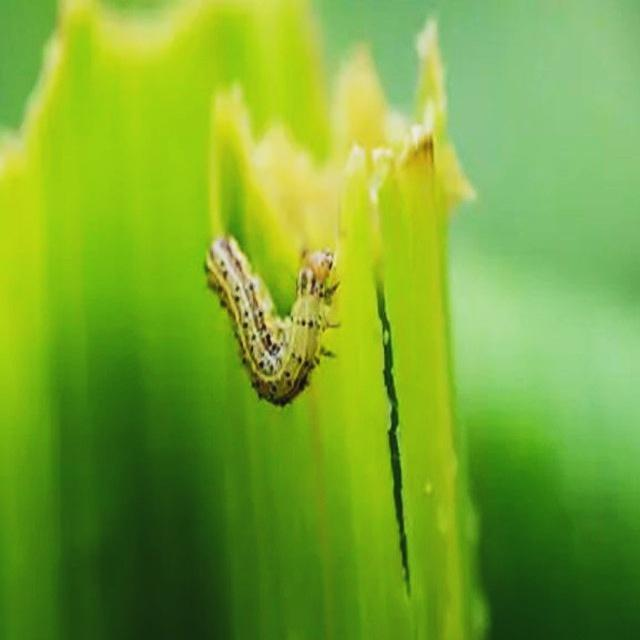Plaga: (207, 230, 344, 412)
